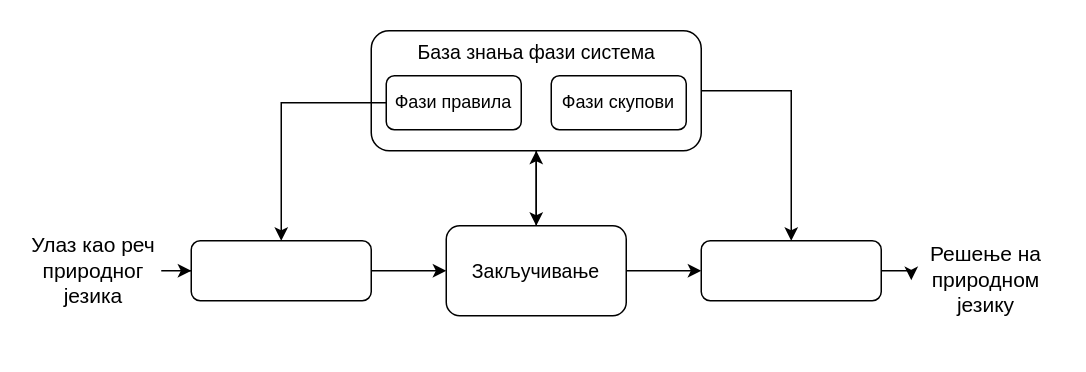
The diagram is 1086 pixels wide and 372 high, and some of its shapes have lost their labels. The centre of each missing label's shape, as x and y in pixels:
"Дефазификатор" goes at (790,270).
"Фазификатор" goes at (280,270).
